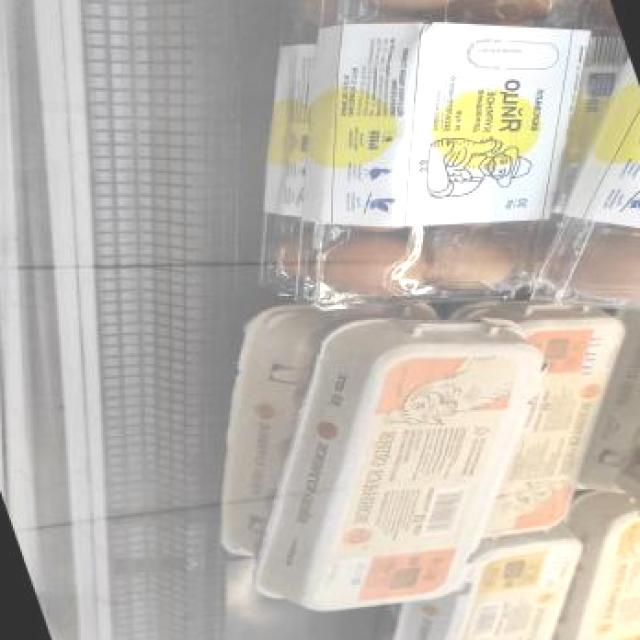egg: (168, 307, 628, 628)
